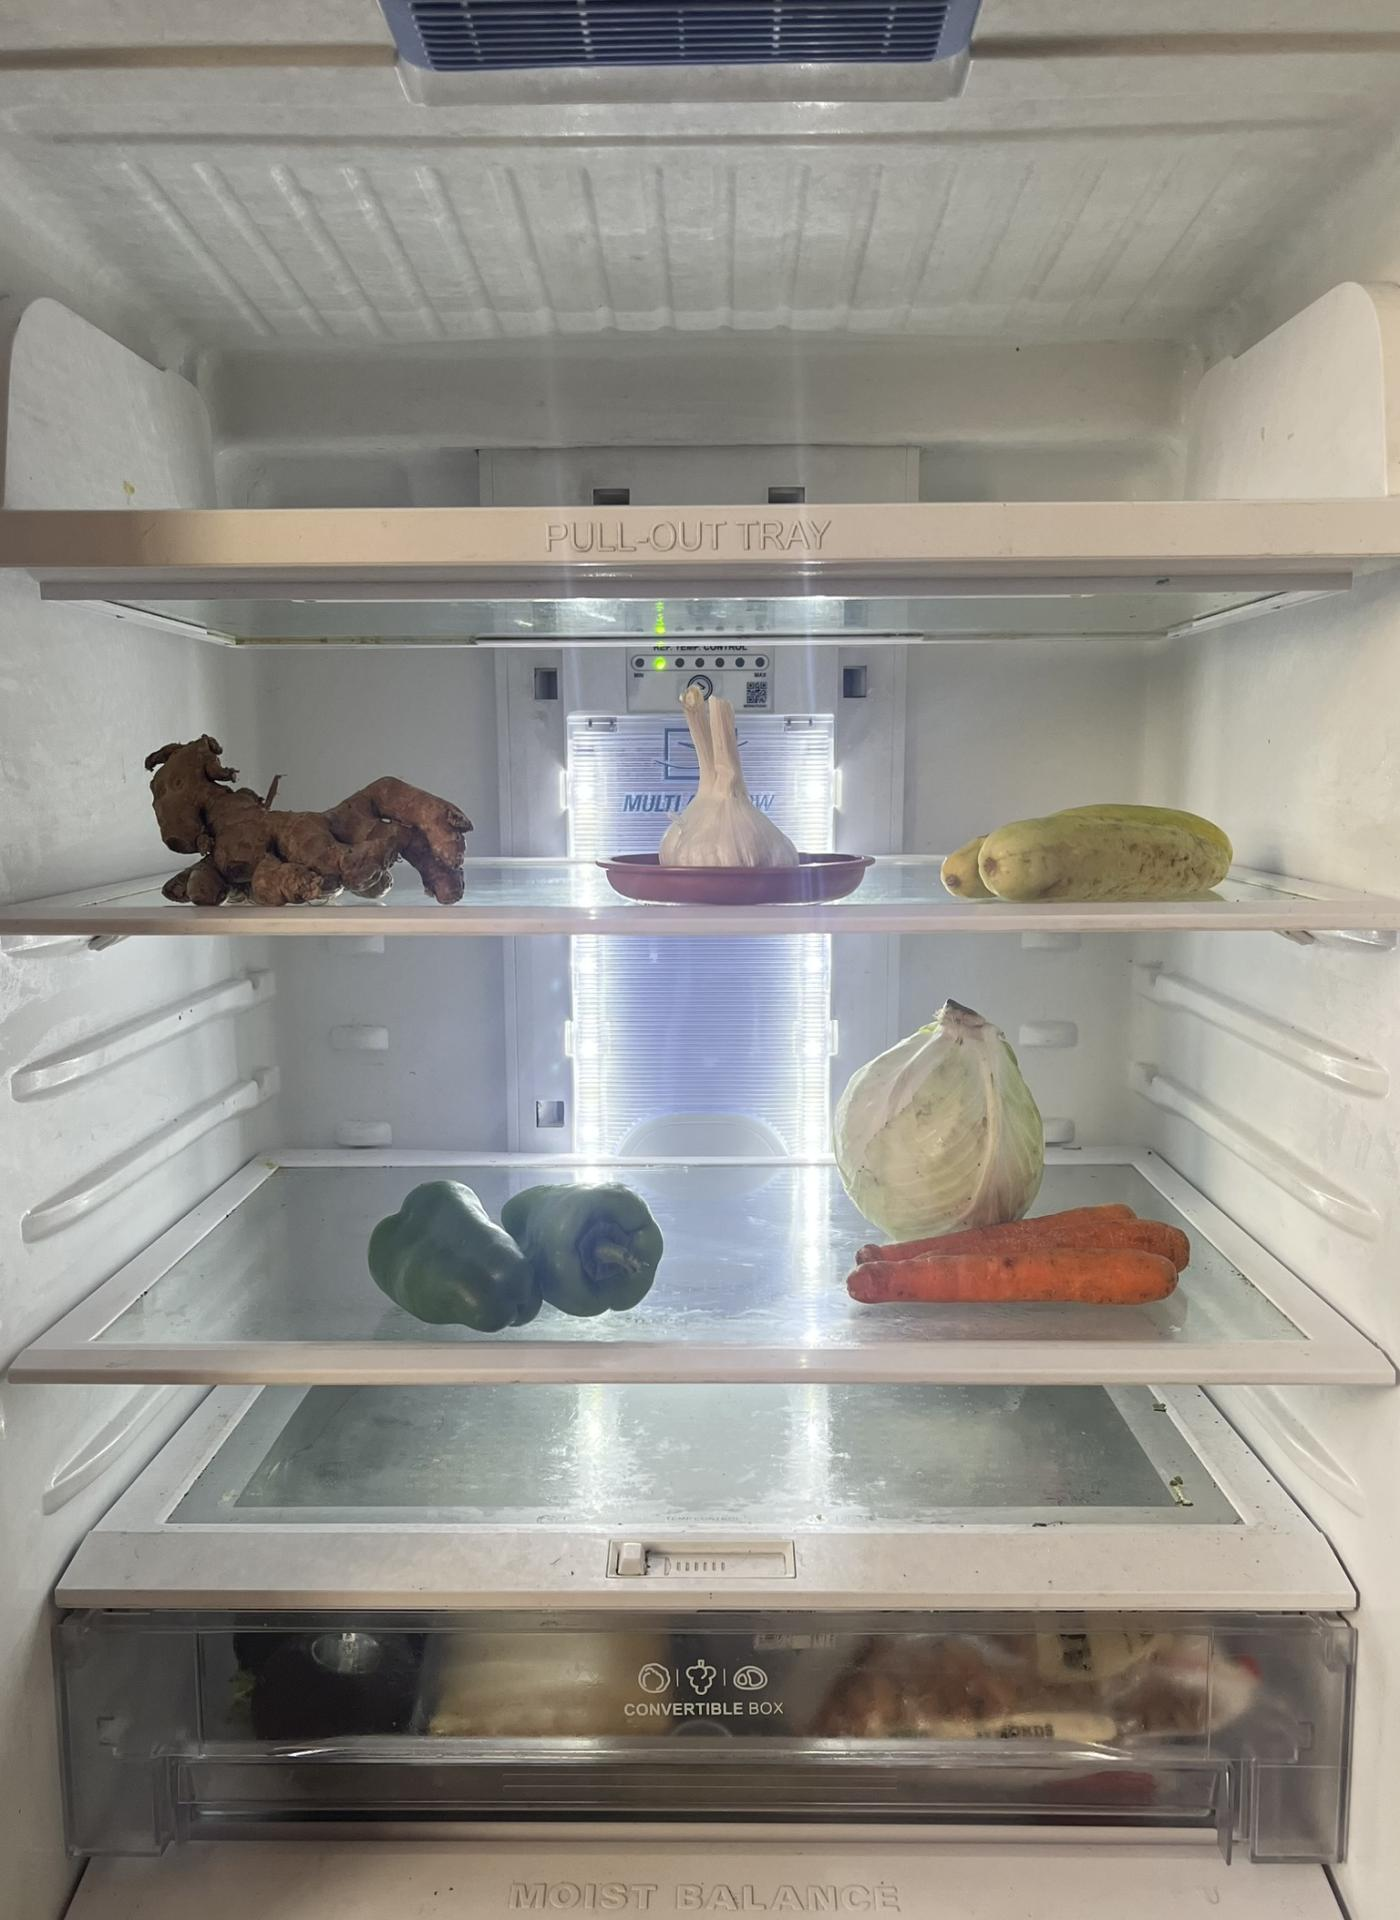cabbage: (829, 997, 1036, 1251)
capsicum: (371, 1172, 662, 1328)
carrots: (842, 1206, 1191, 1303)
cucumber: (945, 800, 1230, 897)
garlic: (662, 687, 808, 866)
ginger: (152, 730, 474, 903)
